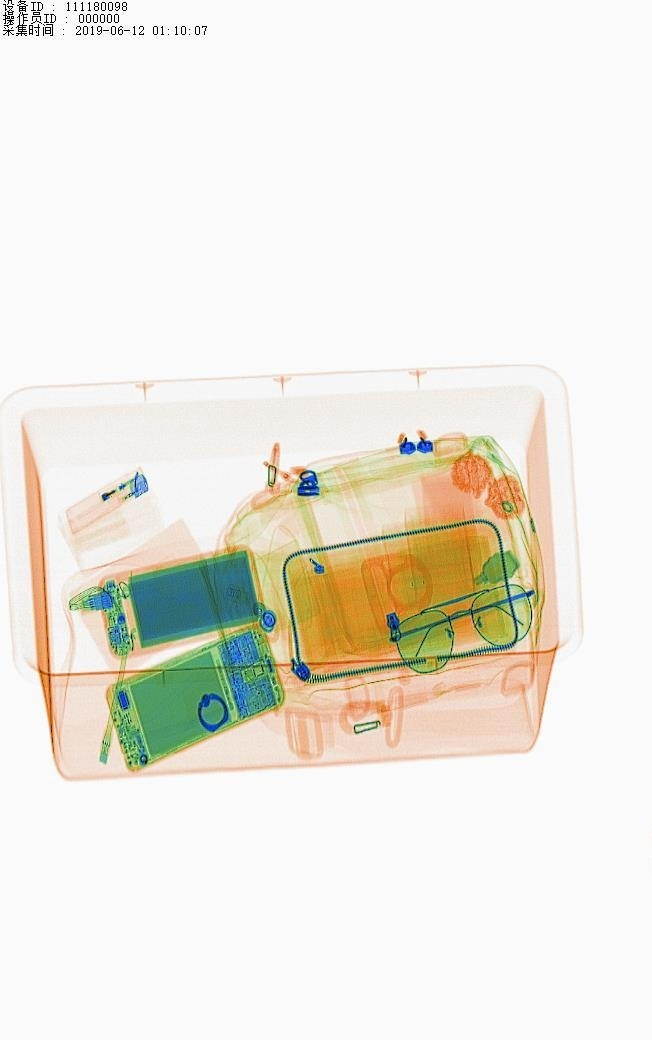NonmetallicFire: (57, 454, 183, 536)
